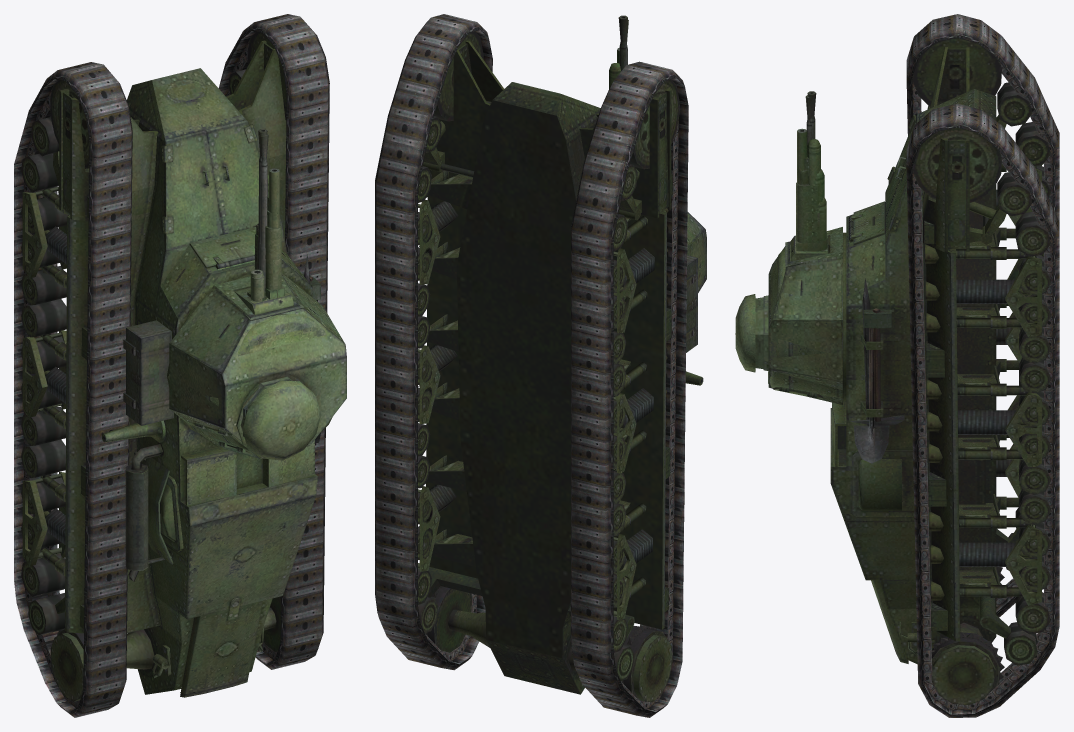
3 views of the same model, side by side, from view 1: azimuth 30°, elevation 25°; view 2: azimuth 150°, elevation 25°; view 3: azimuth 270°, elevation 25° (orthographic). The views are drawn at different scales.
Parts seen in each view (by area): view 1: hull, chassis_track_L, turret_01, chassis_track_R, turret_02, chassis_wheel_L_16, chassis_wheel_L_07, chassis_wheel_L_11, gun_05, chassis_wheel_L_14, chassis_wheel_L_15, chassis_wheel_L_03 (+13 smaller); view 2: hull, chassis_track_L, chassis_track_R, chassis_wheel_L_16, chassis_wheel_R_16, chassis_wheel_L_01, chassis_wheel_R_01, turret_01, chassis_wheel_L_15, chassis_wheel_R_15; view 3: hull, chassis_track_R, turret_01, chassis_track_L, chassis_wheel_R_16, chassis_wheel_R_01, chassis_wheel_L_01, turret_02, gun_05, gun_06, chassis_wheel_R_03, chassis_wheel_R_02 (+13 smaller).
Boxes of the visible parts, x1=… form: hull: x1=22, y1=40, x2=320, y2=697; chassis_track_L: x1=14, y1=62, x2=132, y2=717; turret_01: x1=169, y1=273, x2=346, y2=458; chassis_track_R: x1=218, y1=14, x2=329, y2=669; turret_02: x1=190, y1=287, x2=332, y2=460; chassis_wheel_L_16: x1=50, y1=629, x2=83, y2=701; chassis_wheel_L_07: x1=21, y1=299, x2=66, y2=337; chassis_wheel_L_11: x1=21, y1=439, x2=65, y2=477; gun_05: x1=252, y1=210, x2=281, y2=301; chassis_wheel_L_14: x1=21, y1=553, x2=65, y2=596; chassis_wheel_L_15: x1=28, y1=593, x2=64, y2=635; chassis_wheel_L_03: x1=21, y1=153, x2=58, y2=192; hull: x1=418, y1=40, x2=703, y2=694; chassis_track_L: x1=571, y1=61, x2=688, y2=717; chassis_track_R: x1=375, y1=14, x2=492, y2=670; chassis_wheel_L_16: x1=621, y1=625, x2=672, y2=702; chassis_wheel_R_16: x1=425, y1=586, x2=471, y2=652; chassis_wheel_L_01: x1=630, y1=79, x2=679, y2=169; chassis_wheel_R_01: x1=434, y1=31, x2=483, y2=121; turret_01: x1=687, y1=212, x2=706, y2=292; chassis_wheel_L_15: x1=614, y1=645, x2=634, y2=681; chassis_wheel_R_15: x1=418, y1=597, x2=437, y2=633; hull: x1=830, y1=47, x2=1041, y2=664; chassis_track_R: x1=906, y1=103, x2=1059, y2=717; turret_01: x1=735, y1=227, x2=842, y2=404; chassis_track_L: x1=906, y1=14, x2=1059, y2=617; chassis_wheel_R_16: x1=931, y1=632, x2=1004, y2=705; chassis_wheel_R_01: x1=912, y1=127, x2=1001, y2=202; chassis_wheel_L_01: x1=912, y1=38, x2=1001, y2=106; turret_02: x1=735, y1=236, x2=842, y2=399; gun_05: x1=796, y1=169, x2=824, y2=246; gun_06: x1=796, y1=128, x2=821, y2=250; chassis_wheel_R_03: x1=1015, y1=212, x2=1050, y2=256; chassis_wheel_R_02: x1=997, y1=172, x2=1032, y2=216.
Size of the model in its own units: 1.71 by 4.37 by 2.14.
2 materials, 2 textured.
